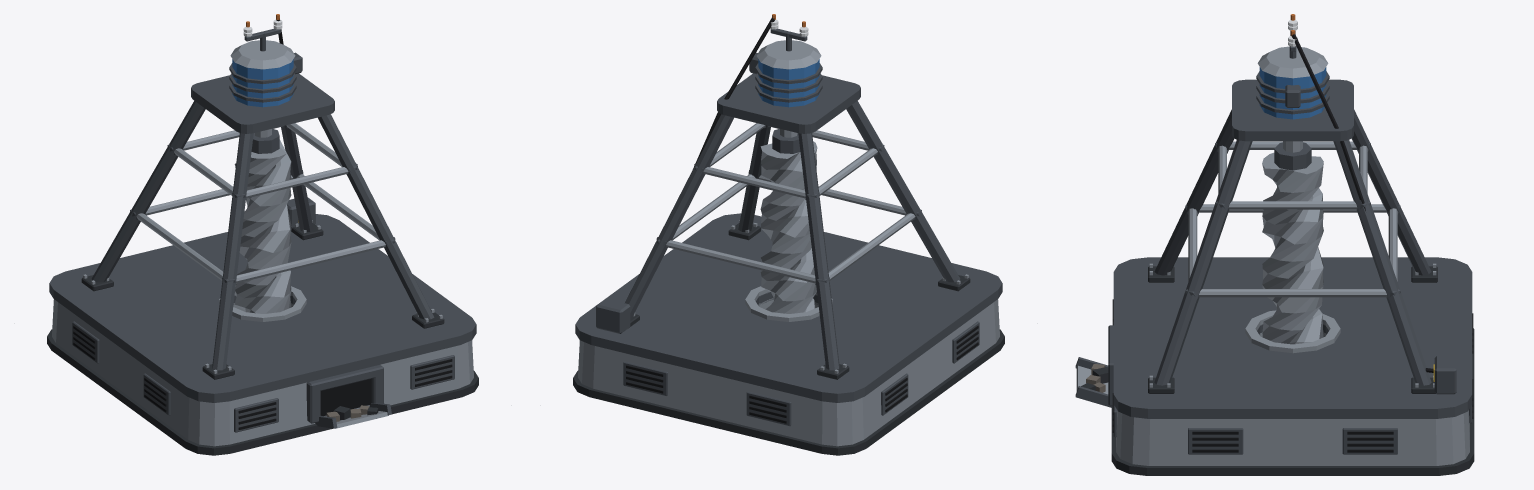
File: foreuse_electrique_t2.glb
3 renders of one model, left to right at view 1: azimuth 30°, elevation 25°; view 2: azimuth 150°, elevation 25°; view 3: azimuth 270°, elevation 25°, orthographic. The views are drawn at different scales.
Parts seen in each view (by area): view 1: socle_dessus.004, pieces_acier_sombre.008, socle.004, foret_corps.006, pieces_acier.008, plateau.004, socle_plinthe.002, pieces_noir.008, moteur.004, pieces_fonte.007, moteur_chapeau.002, sortie_bouche.006 (+2 smaller); view 2: socle_dessus.004, socle.004, pieces_acier_sombre.008, foret_corps.006, pieces_acier.008, socle_plinthe.002, plateau.004, pieces_noir.008, moteur.004, moteur_chapeau.002, boitier.002, pieces_fonte.007 (+2 smaller); view 3: socle_dessus.004, pieces_acier_sombre.008, socle.004, foret_corps.006, pieces_acier.008, plateau.004, socle_plinthe.002, pieces_noir.008, moteur.004, moteur_chapeau.002, trou_bord.004, pieces_fonte.007 (+2 smaller).
Boxes of the visible parts, <box> form: socle_dessus.004: <box>49,214,476,402</box>; pieces_acier_sombre.008: <box>72,28,454,432</box>; socle.004: <box>52,299,473,446</box>; foret_corps.006: <box>234,139,291,313</box>; pieces_acier.008: <box>83,123,442,428</box>; plateau.004: <box>191,73,334,133</box>; socle_plinthe.002: <box>47,329,478,455</box>; pieces_noir.008: <box>73,18,452,429</box>; moteur.004: <box>232,59,293,107</box>; pieces_fonte.007: <box>81,223,444,420</box>; moteur_chapeau.002: <box>230,40,295,69</box>; sortie_bouche.006: <box>320,378,371,415</box>; socle_dessus.004: <box>575,213,1002,402</box>; socle.004: <box>578,298,999,446</box>; pieces_acier_sombre.008: <box>623,28,979,426</box>; foret_corps.006: <box>760,141,817,313</box>; pieces_acier.008: <box>633,123,968,373</box>; socle_plinthe.002: <box>573,329,1004,455</box>; plateau.004: <box>717,73,860,133</box>; pieces_noir.008: <box>626,17,978,423</box>; moteur.004: <box>758,59,819,107</box>; moteur_chapeau.002: <box>756,40,821,69</box>; boitier.002: <box>596,298,630,333</box>; pieces_fonte.007: <box>629,223,970,379</box>; socle_dessus.004: <box>1113,257,1472,418</box>; pieces_acier_sombre.008: <box>1075,31,1472,454</box>; socle.004: <box>1116,332,1469,465</box>; foret_corps.006: <box>1262,152,1323,344</box>; pieces_acier.008: <box>1076,141,1436,394</box>; plateau.004: <box>1232,79,1353,141</box>; socle_plinthe.002: <box>1111,328,1474,475</box>; pieces_noir.008: <box>1112,34,1473,452</box>; moteur.004: <box>1259,67,1326,119</box>; moteur_chapeau.002: <box>1257,46,1328,78</box>; trou_bord.004: <box>1245,310,1340,353</box>; pieces_fonte.007: <box>1081,266,1437,393</box>.
Size of the model in its own units: 2 by 2.29 by 2.5.
